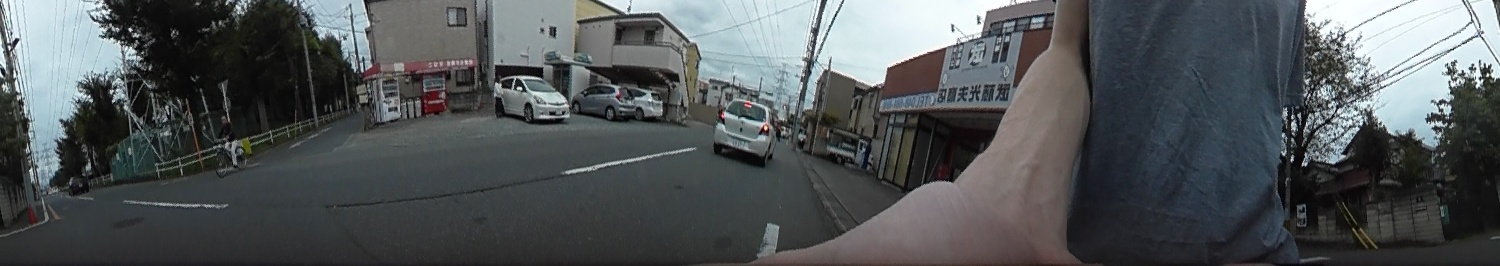person: (212, 112, 242, 171)
